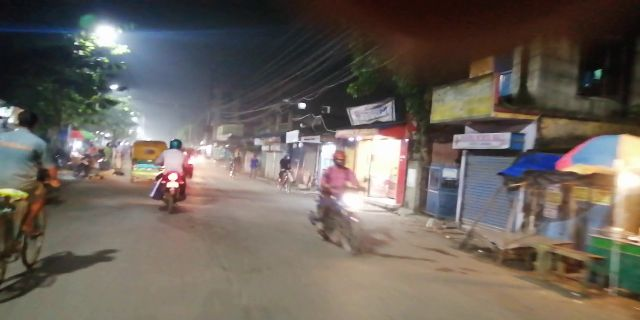Motorbike: (301, 147, 373, 269), (154, 137, 187, 216)
